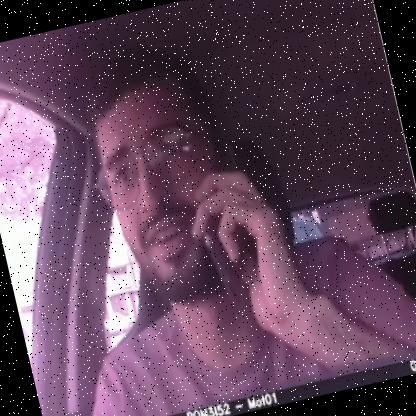phone: (190, 164, 270, 313)
